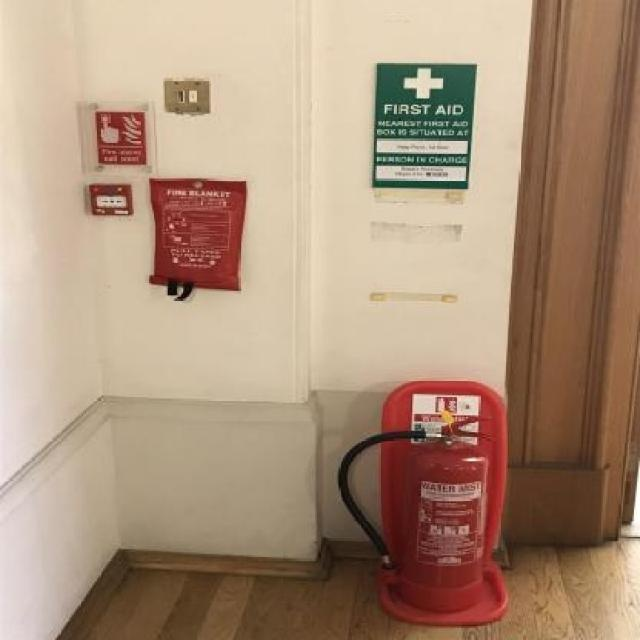fire extinguisher: (335, 414, 497, 609)
